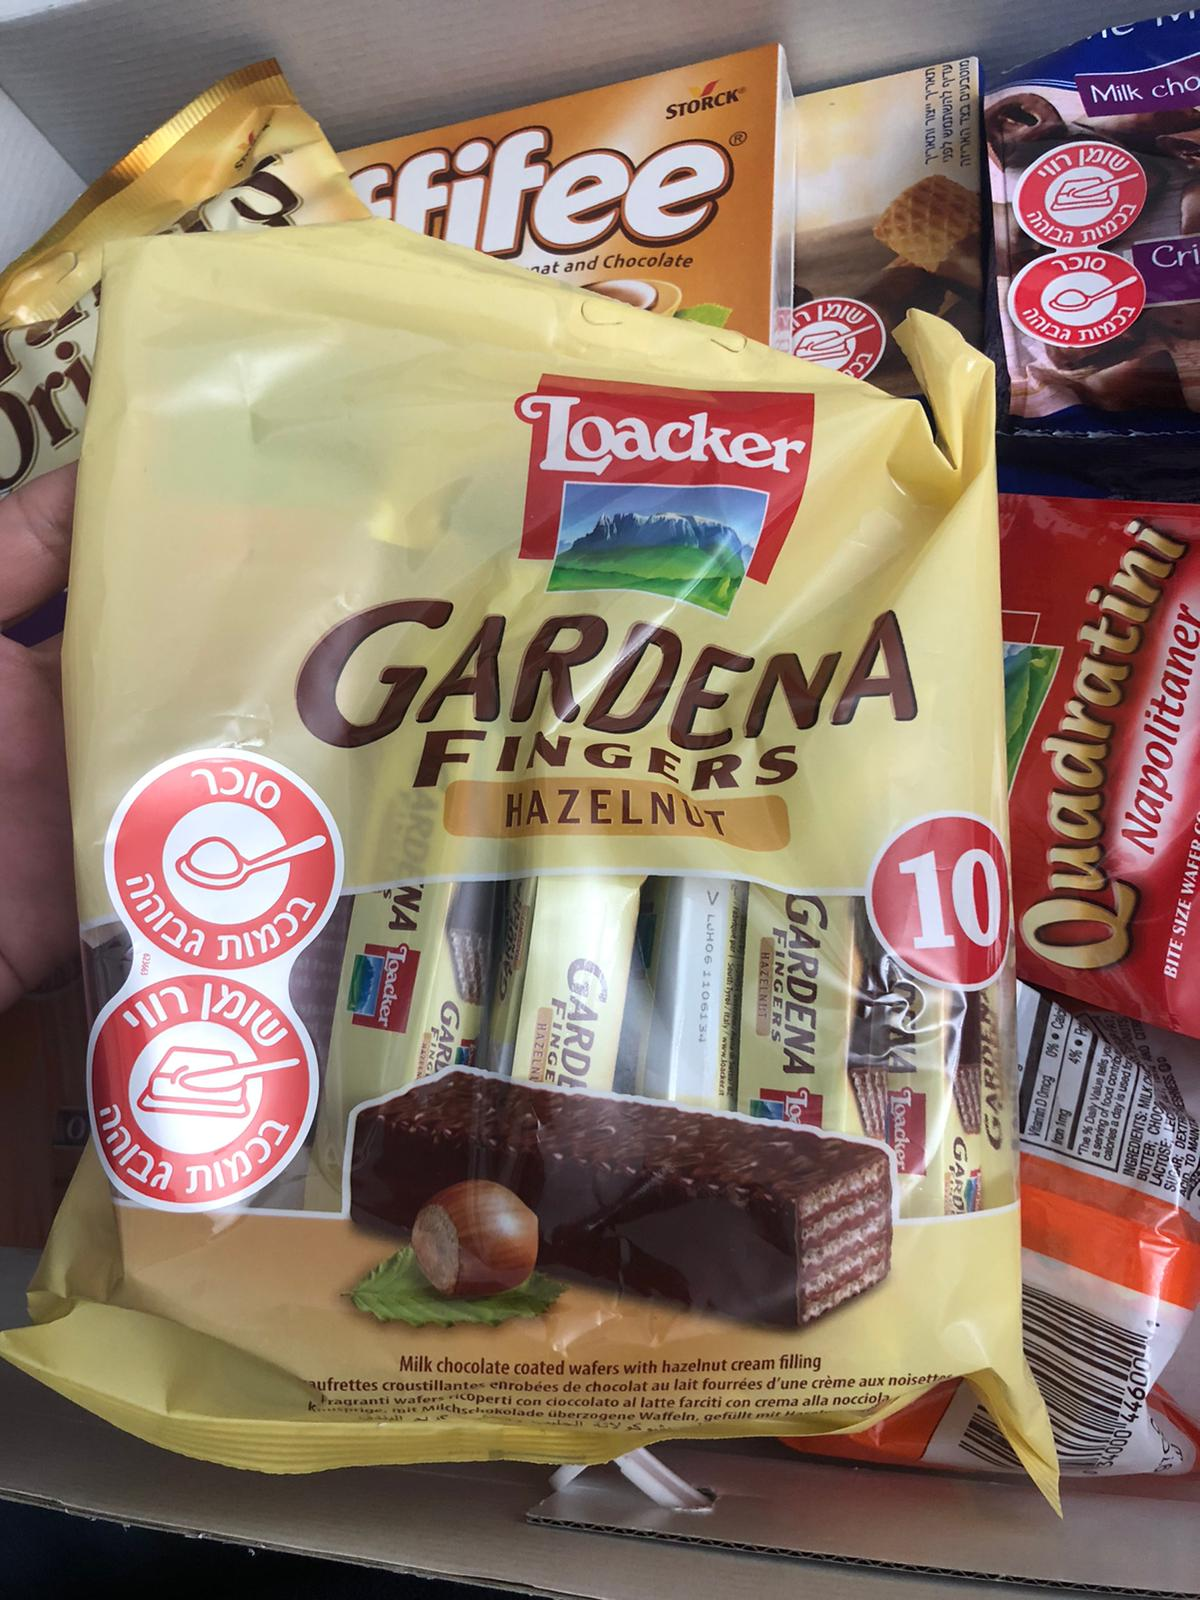fat: (84, 973, 319, 1213), (1011, 135, 1151, 251), (766, 300, 884, 375)
sugar: (106, 750, 342, 975), (1002, 244, 1150, 348)
